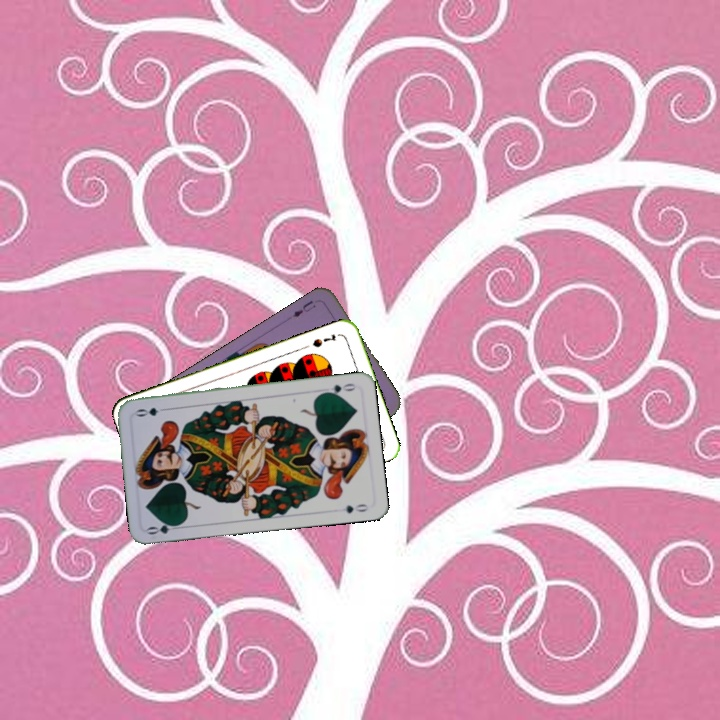EU: (289, 296, 318, 320)
GO: (144, 518, 185, 537), (319, 379, 358, 398)
S7: (308, 330, 338, 350)
